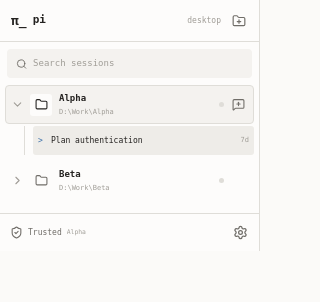
Scenario: Sidebar › loads sessions when another project is expanded
Click the button named "Expand Beta": (17, 180) [6,166,28,196]
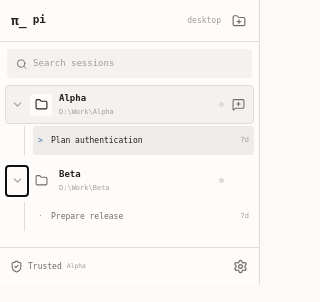
Check: the button with aria-label "Open session Prepare release" is shown, box [33,202,254,231]
